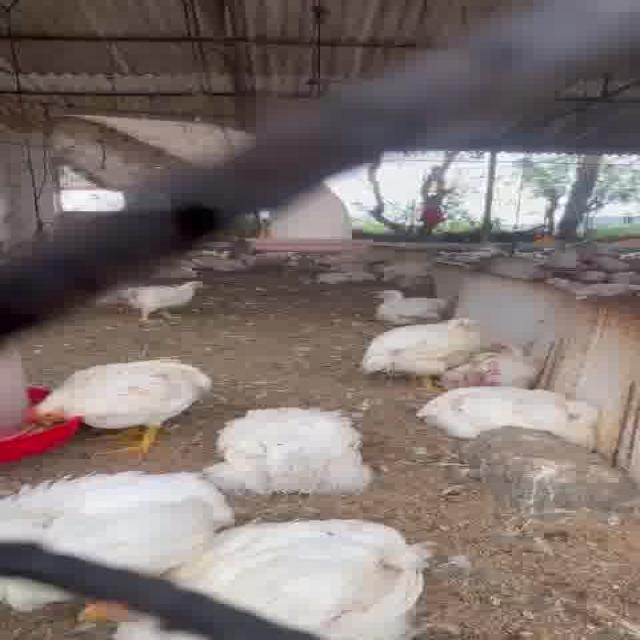AbNormal: (127, 520, 460, 640), (0, 463, 234, 602), (215, 398, 396, 509), (402, 387, 622, 440), (436, 345, 580, 392), (368, 288, 458, 324)
Normal: (3, 343, 230, 460), (347, 314, 499, 386), (101, 275, 227, 326)
